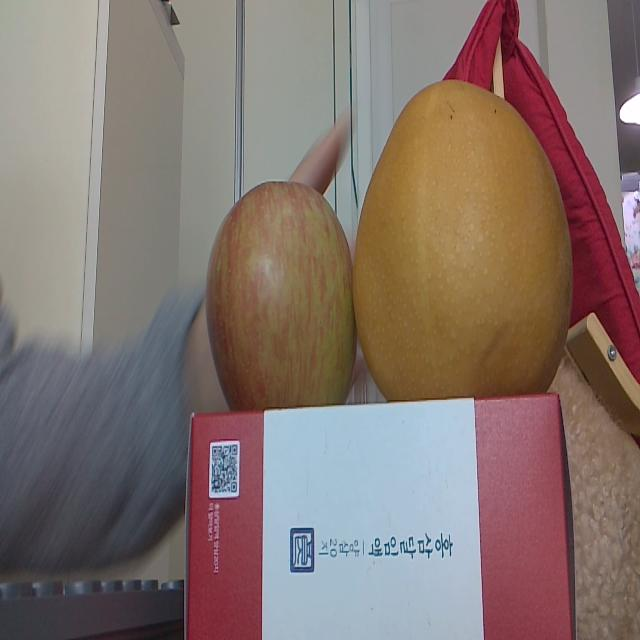apple: (208, 181, 353, 401)
pear: (356, 79, 572, 393)
